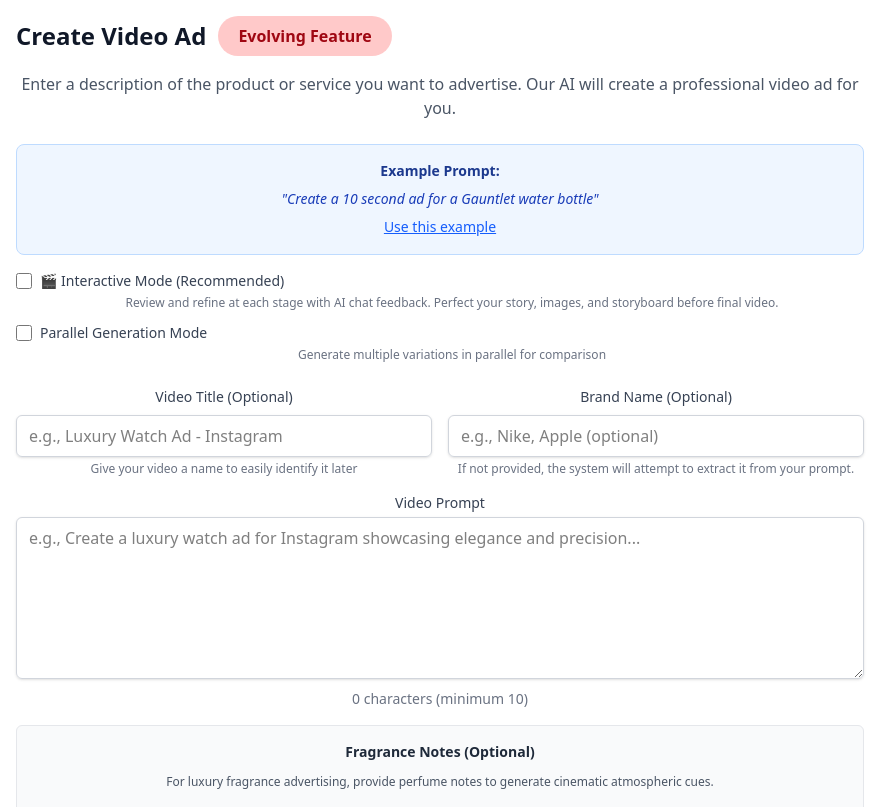
Scenario: Dashboard Prompt Validation › should clear error when valid prompt is entered
// Enter invalid prompt
Replace the text in the text box labelled "Video Prompt" with "short". click: (440, 598)
box: [16,517,864,679]
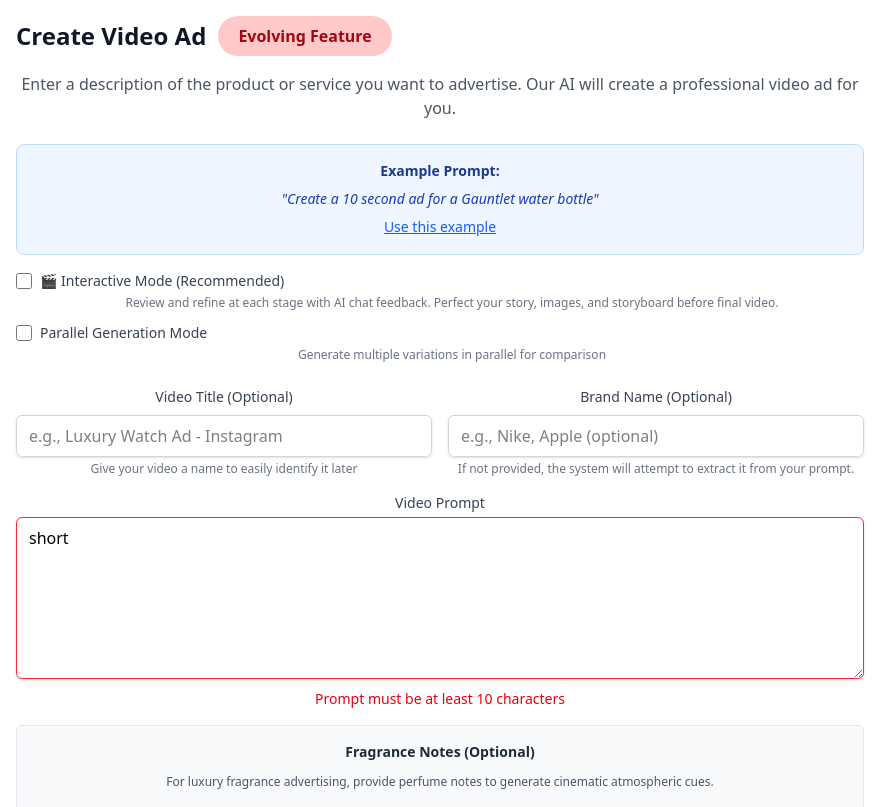
Check: the text "Prompt must be at least 10 characters" is shown, box [315,689,565,708]
// Enter valid prompt
Replace the text in the text box labelled "Video Prompt" with "valid prompt here". click: (440, 598)
box: [16,517,864,679]
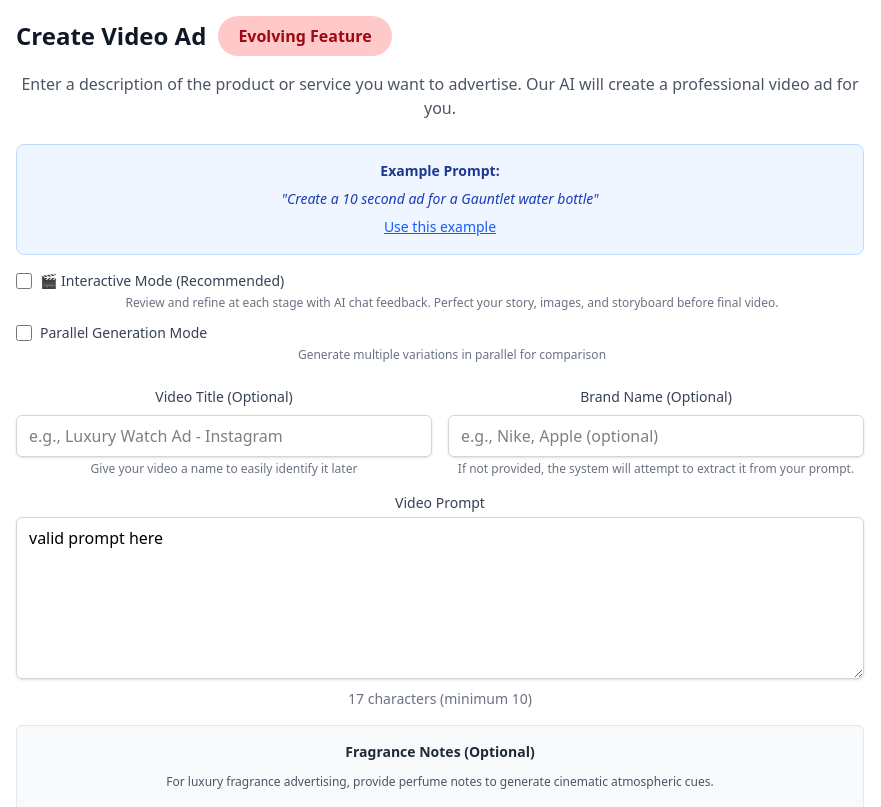
Check: the text "must be at least 10 characters" is gone
